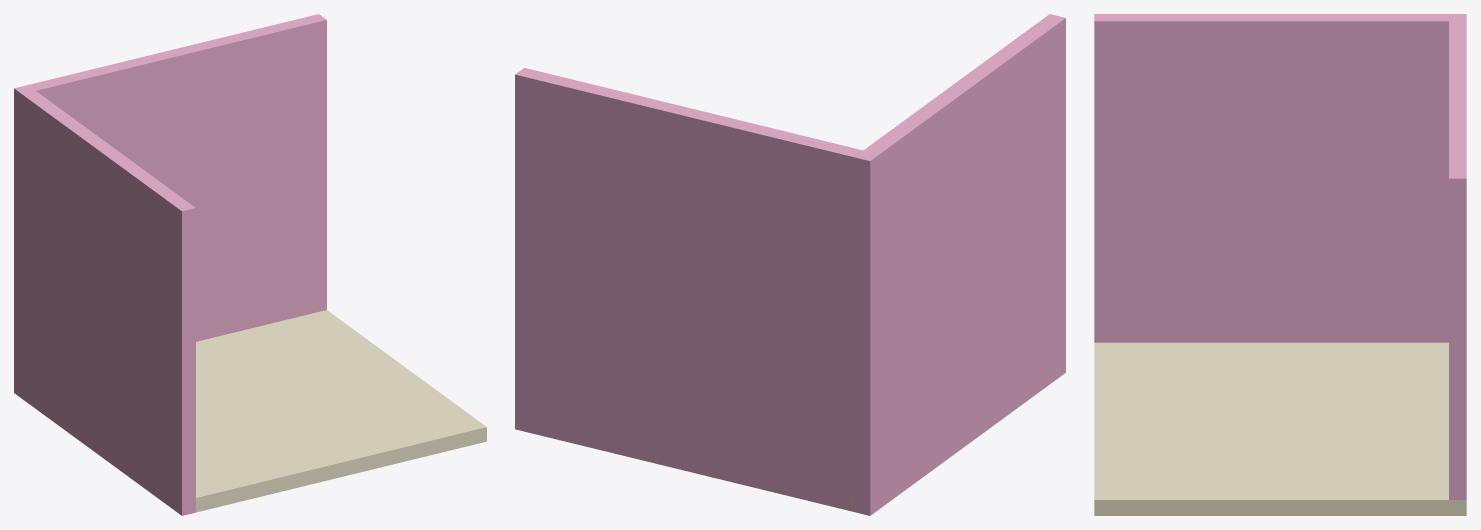
Rendered from room_pink.glb.
3 views of the same model, side by side, from view 1: azimuth 30°, elevation 25°; view 2: azimuth 150°, elevation 25°; view 3: azimuth 270°, elevation 25° (orthographic). The views are drawn at different scales.
Visible parts, largest first — view 1: wall, wall002, Object001; view 2: wall002, wall; view 3: wall, Object001, wall002.
Part boxes in pixels (bbox=[...]): wall: bbox=[14, 85, 195, 515]; wall002: bbox=[28, 14, 326, 341]; Object001: bbox=[196, 310, 486, 512]; wall002: bbox=[515, 68, 862, 511]; wall: bbox=[854, 14, 1065, 515]; wall: bbox=[1094, 14, 1466, 342]; Object001: bbox=[1094, 342, 1466, 515]; wall002: bbox=[1449, 21, 1466, 499].
Bounding box in the file's own units: 0.44 × 0.42 × 0.42.
Materials: 1 (1 with a texture image).
